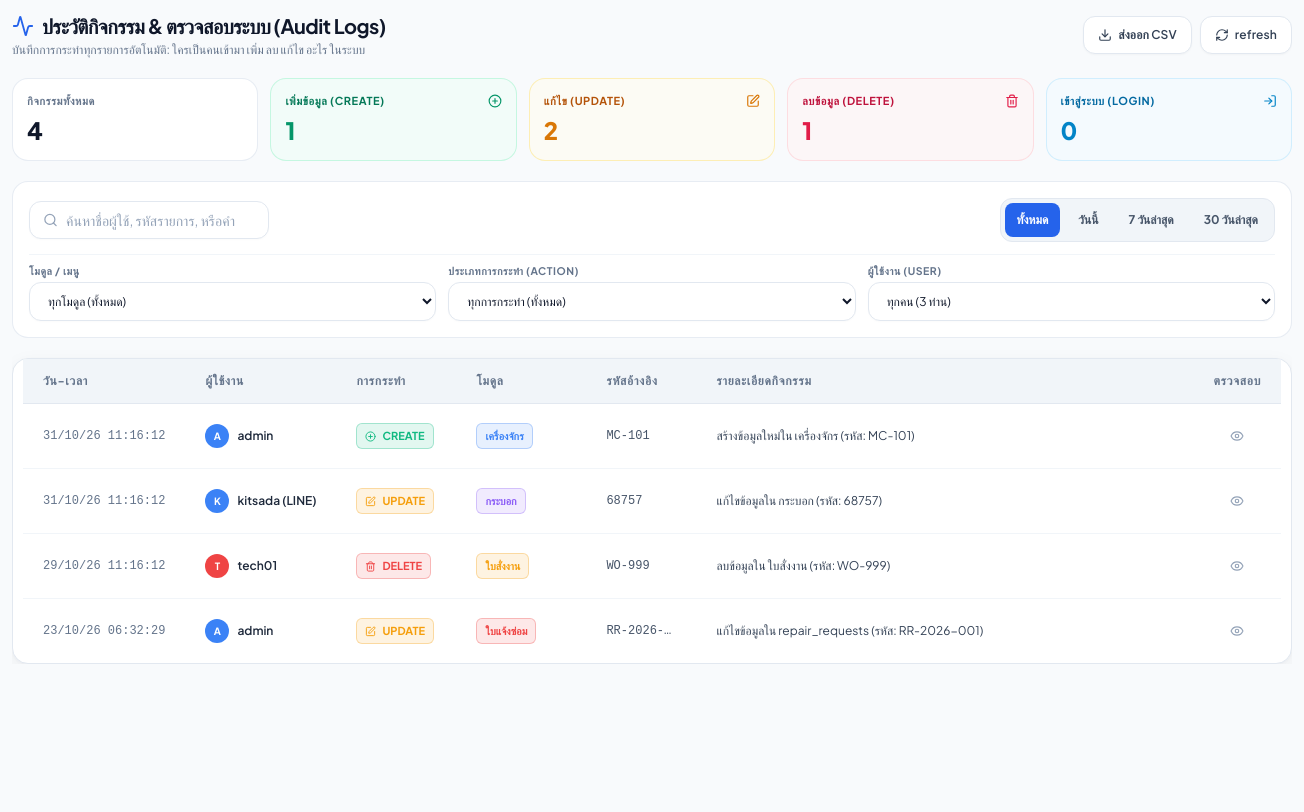
Test: Logs - Enterprise Audit Log System › filters rows by text search
In the field with placeholder "ค้นหาชื่อผู้ใช้, รหัสรายการ, หรือคำอธิบาย...": point(149, 220) [29,200,269,238], type "68757"
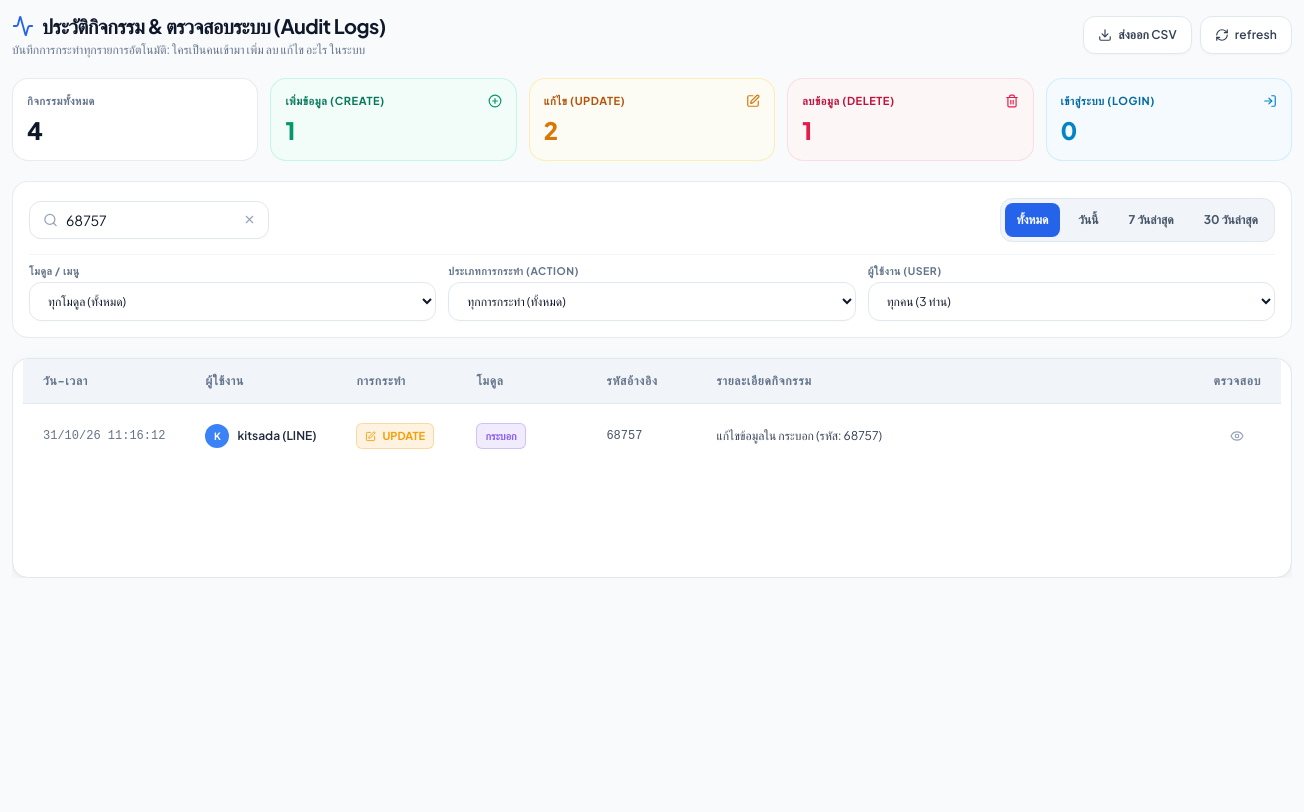
Expected: the text "68757" is shown, [586,404,696,468]
Expected: the text "MC-101" is gone
Expected: the text "WO-999" is gone
